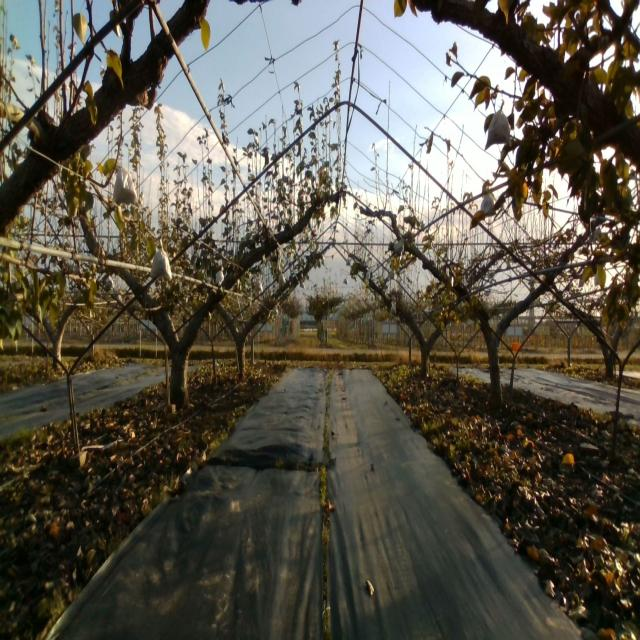pearbags: (483, 99, 512, 152), (110, 163, 138, 208), (150, 238, 172, 281), (479, 194, 495, 216)
